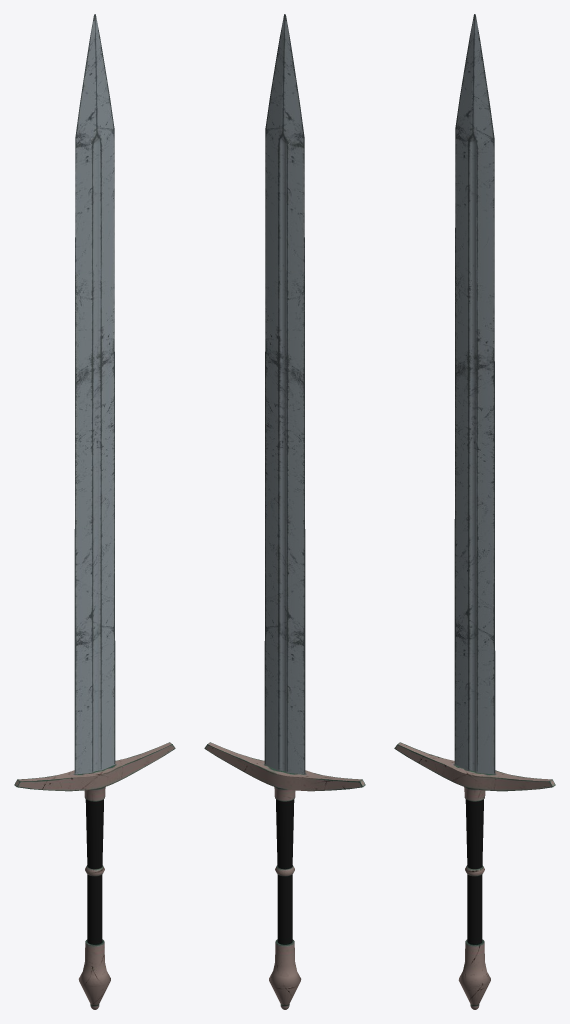
File: espada.glb
3 renders of one model, left to right at view 1: azimuth 30°, elevation 25°; view 2: azimuth 150°, elevation 25°; view 3: azimuth 330°, elevation 25°, orthographic.
Visible parts, largest first — view 1: Blade_low, Handle_low, Guard_low2; view 2: Blade_low, Handle_low, Guard_low2; view 3: Blade_low, Handle_low, Guard_low2.
Part boxes in pixels (x1=…): Blade_low: x1=74, y1=14, x2=115, y2=774; Handle_low: x1=78, y1=786, x2=110, y2=1009; Guard_low2: x1=14, y1=742, x2=175, y2=791; Blade_low: x1=264, y1=14, x2=305, y2=774; Handle_low: x1=269, y1=786, x2=301, y2=1009; Guard_low2: x1=204, y1=742, x2=365, y2=791; Blade_low: x1=454, y1=14, x2=495, y2=774; Handle_low: x1=458, y1=786, x2=490, y2=1009; Guard_low2: x1=394, y1=742, x2=555, y2=791.
Bounding box in the file's own units: 24.15 × 145 × 4.29.
1 material, 1 textured.
